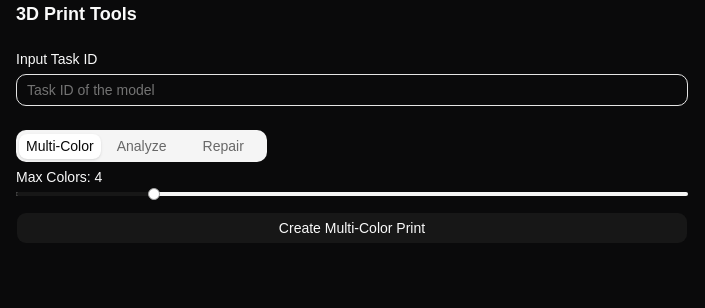
Test: PrintPanel — TC-PRINT (3D Print Tools) › TC-PRINT-07: repair tab shows the texture-removal warning and credit cost
Click the tab "Repair" at (223, 146), box [182,134,264,158]
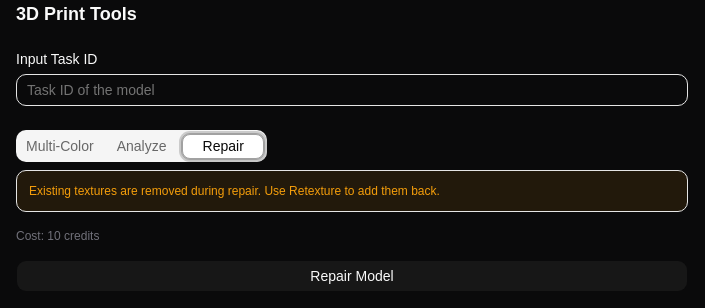
Expected: the text "Existing textures are removed during repair. Use Retexture to add them back." is shown, [16,170,688,212]
Expected: the text "Cost: 10 credits" is shown, [16,229,99,243]
